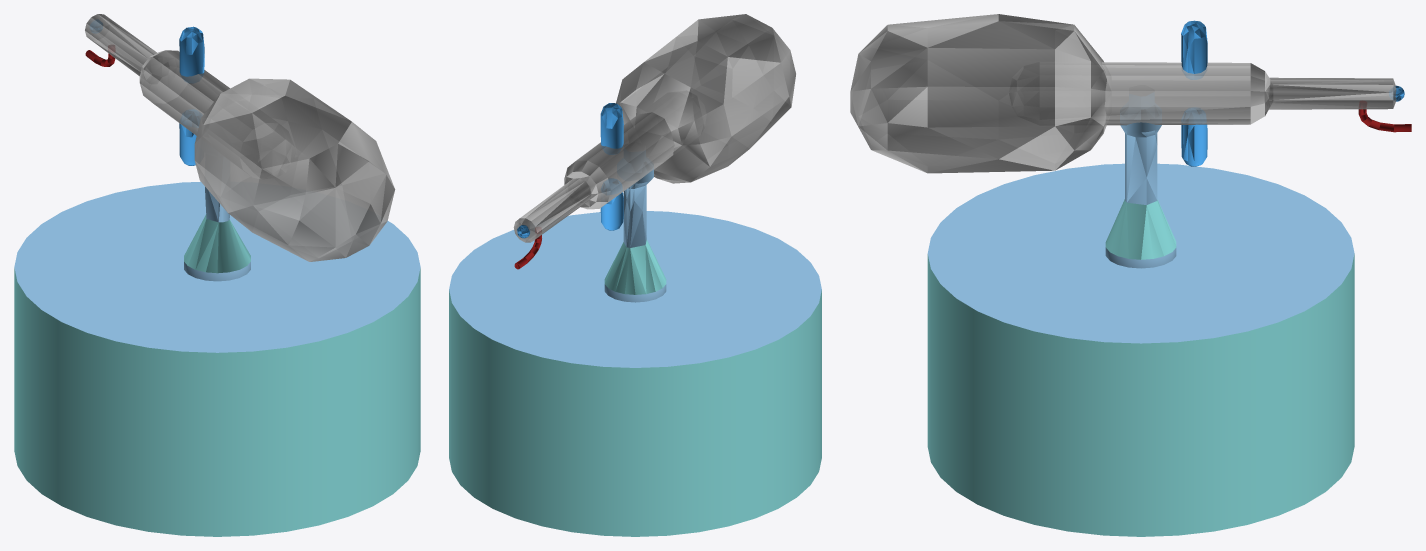
File: 阴极射线.FBX
3 views of the same model, side by side, from view 1: azimuth 30°, elevation 25°; view 2: azimuth 150°, elevation 25°; view 3: azimuth 270°, elevation 25° (orthographic). The views are drawn at different scales.
Parts seen in each view (by area): view 1: Cylinder002, Cylinder001; view 2: Cylinder002, Cylinder001; view 3: Cylinder002, Cylinder001.
Boxes of the visible parts, <box> form: Cylinder002: <box>14,181,420,536</box>; Cylinder001: <box>85,14,395,281</box>; Cylinder002: <box>449,211,821,536</box>; Cylinder001: <box>513,14,795,302</box>; Cylinder002: <box>927,163,1354,536</box>; Cylinder001: <box>850,14,1411,268</box>.
Bounding box in the file's own units: 800 × 880 × 1052.
